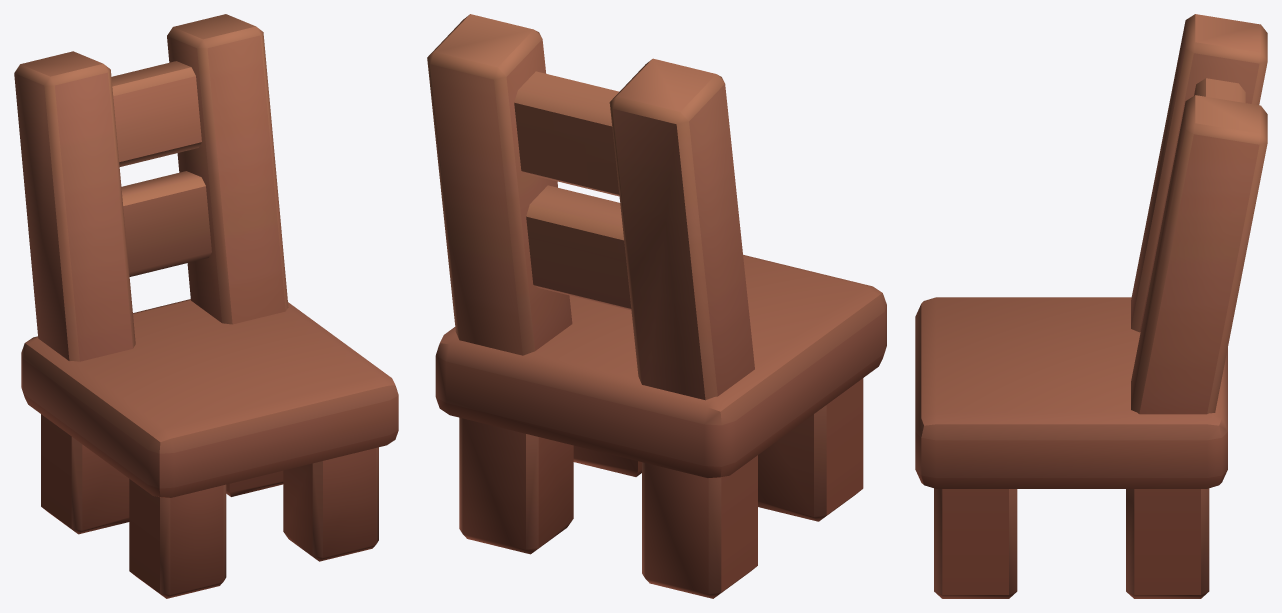
File: chair_A_wood.glb
The picture shows the model from 3 angles, left to right: view 1: azimuth 30°, elevation 25°; view 2: azimuth 150°, elevation 25°; view 3: azimuth 270°, elevation 25°; orthographic projection. The views are drawn at different scales.
Visible parts, largest first — view 1: chair_A_wood; view 2: chair_A_wood; view 3: chair_A_wood.
Part boxes in pixels (box(x1,y1,x2,y2)): chair_A_wood: box(14, 14, 398, 598); chair_A_wood: box(427, 14, 886, 598); chair_A_wood: box(915, 14, 1267, 598).
Size of the model in its own units: 0.75 by 1.26 by 0.8451.
1 material, 1 textured.
